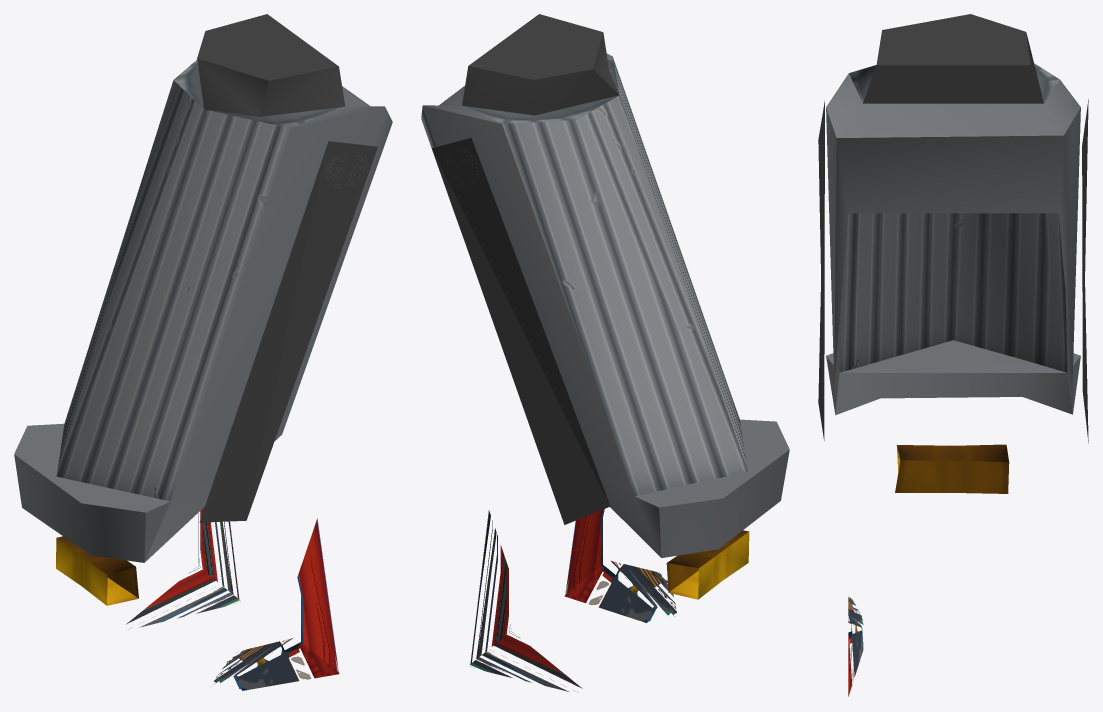
The model's file is env_ruin_container_02_lod2.fbx.
The picture shows the model from 3 angles, left to right: view 1: azimuth 30°, elevation 25°; view 2: azimuth 150°, elevation 25°; view 3: azimuth 270°, elevation 25°; orthographic projection. The views are drawn at different scales.
Parts seen in each view (by area): view 1: env_ruin_container_02_lod2; view 2: env_ruin_container_02_lod2; view 3: env_ruin_container_02_lod2.
Boxes of the visible parts, x1,y1,x2,y2 form: env_ruin_container_02_lod2: [14, 14, 392, 690]; env_ruin_container_02_lod2: [421, 14, 789, 692]; env_ruin_container_02_lod2: [818, 14, 1088, 696].
Size of the model in its own units: 47.24 by 92.39 by 35.42.
